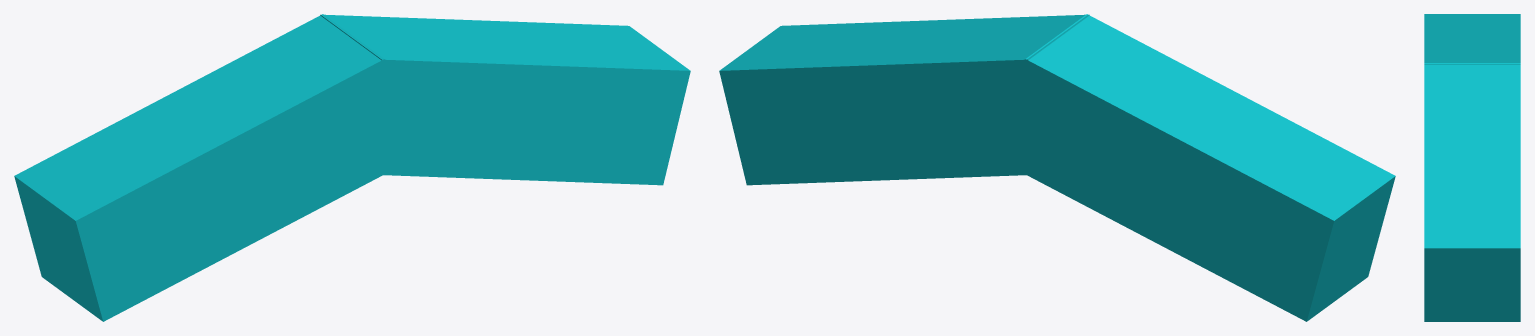
Rendered from slope15.dae.
3 views of the same model, side by side, from view 1: azimuth 30°, elevation 25°; view 2: azimuth 150°, elevation 25°; view 3: azimuth 270°, elevation 25° (orthographic). The views are drawn at different scales.
Parts seen in each view (by area): view 1: Cube_016, Cube_017; view 2: Cube_016, Cube_017; view 3: Cube_017, Cube_016.
Boxes of the visible parts, x1=… form: Cube_016: x1=14, y1=14, x2=401, y2=321; Cube_017: x1=320, y1=14, x2=690, y2=185; Cube_016: x1=998, y1=14, x2=1395, y2=321; Cube_017: x1=719, y1=14, x2=1089, y2=185; Cube_017: x1=1424, y1=63, x2=1520, y2=321; Cube_016: x1=1424, y1=14, x2=1520, y2=64.
Bounding box in the file's own units: 11.54 × 2 × 3.48.
